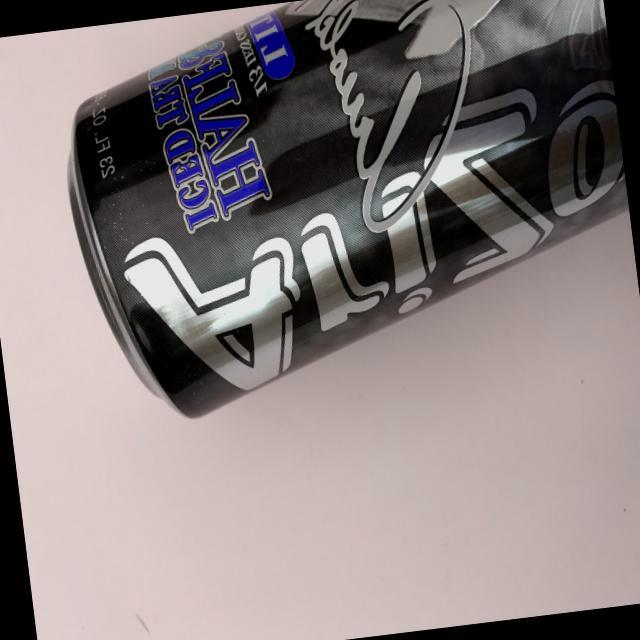metal: (43, 0, 640, 450)
